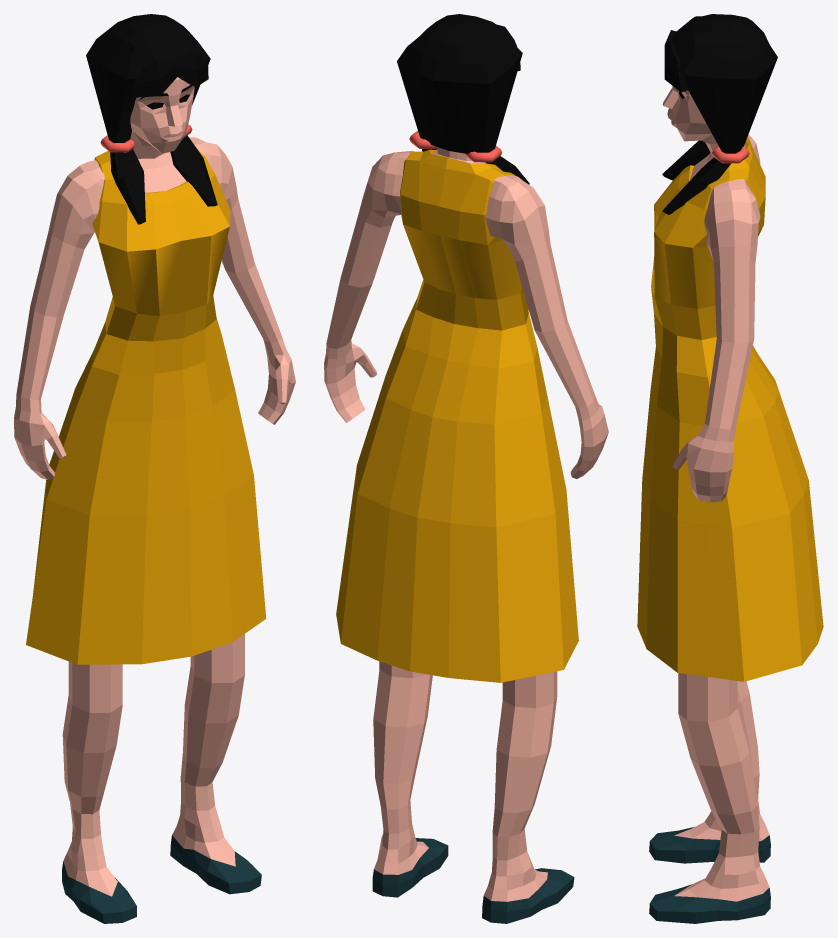
File: Female_09.FBX
3 views of the same model, side by side, from view 1: azimuth 30°, elevation 25°; view 2: azimuth 150°, elevation 25°; view 3: azimuth 270°, elevation 25° (orthographic).
Visible parts, largest first — view 1: Female_09; view 2: Female_09; view 3: Female_09.
Boxes of the visible parts, <box> form: Female_09: <box>14,14,295,923</box>; Female_09: <box>324,14,608,923</box>; Female_09: <box>637,14,823,923</box>.
Bounding box in the file's own units: 0.5663 × 1.72 × 0.3369.
Materials: 1 (1 with a texture image).
